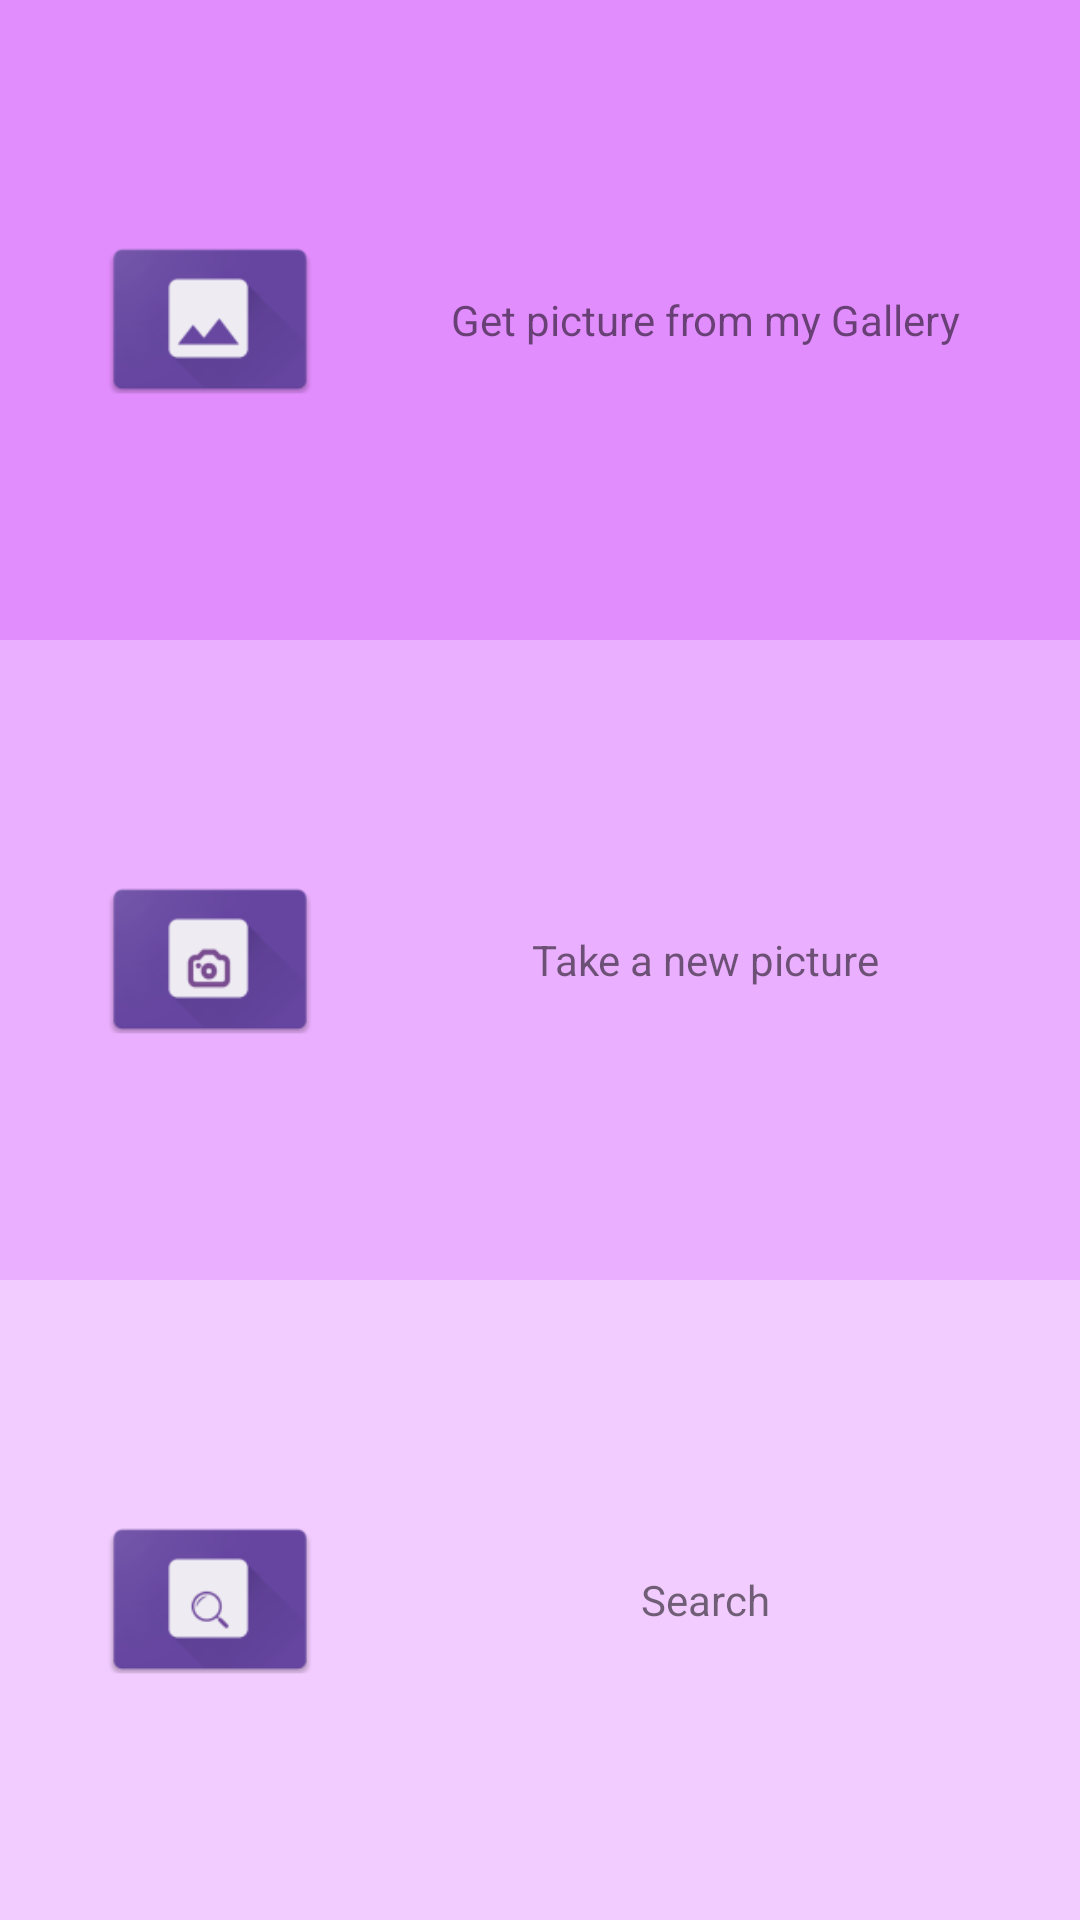

Icons on this 1080*1920 Android screen, each with its box as (x1, y1, x2, y2):
camera: (111, 889, 309, 1033)
galary: (111, 249, 309, 393)
